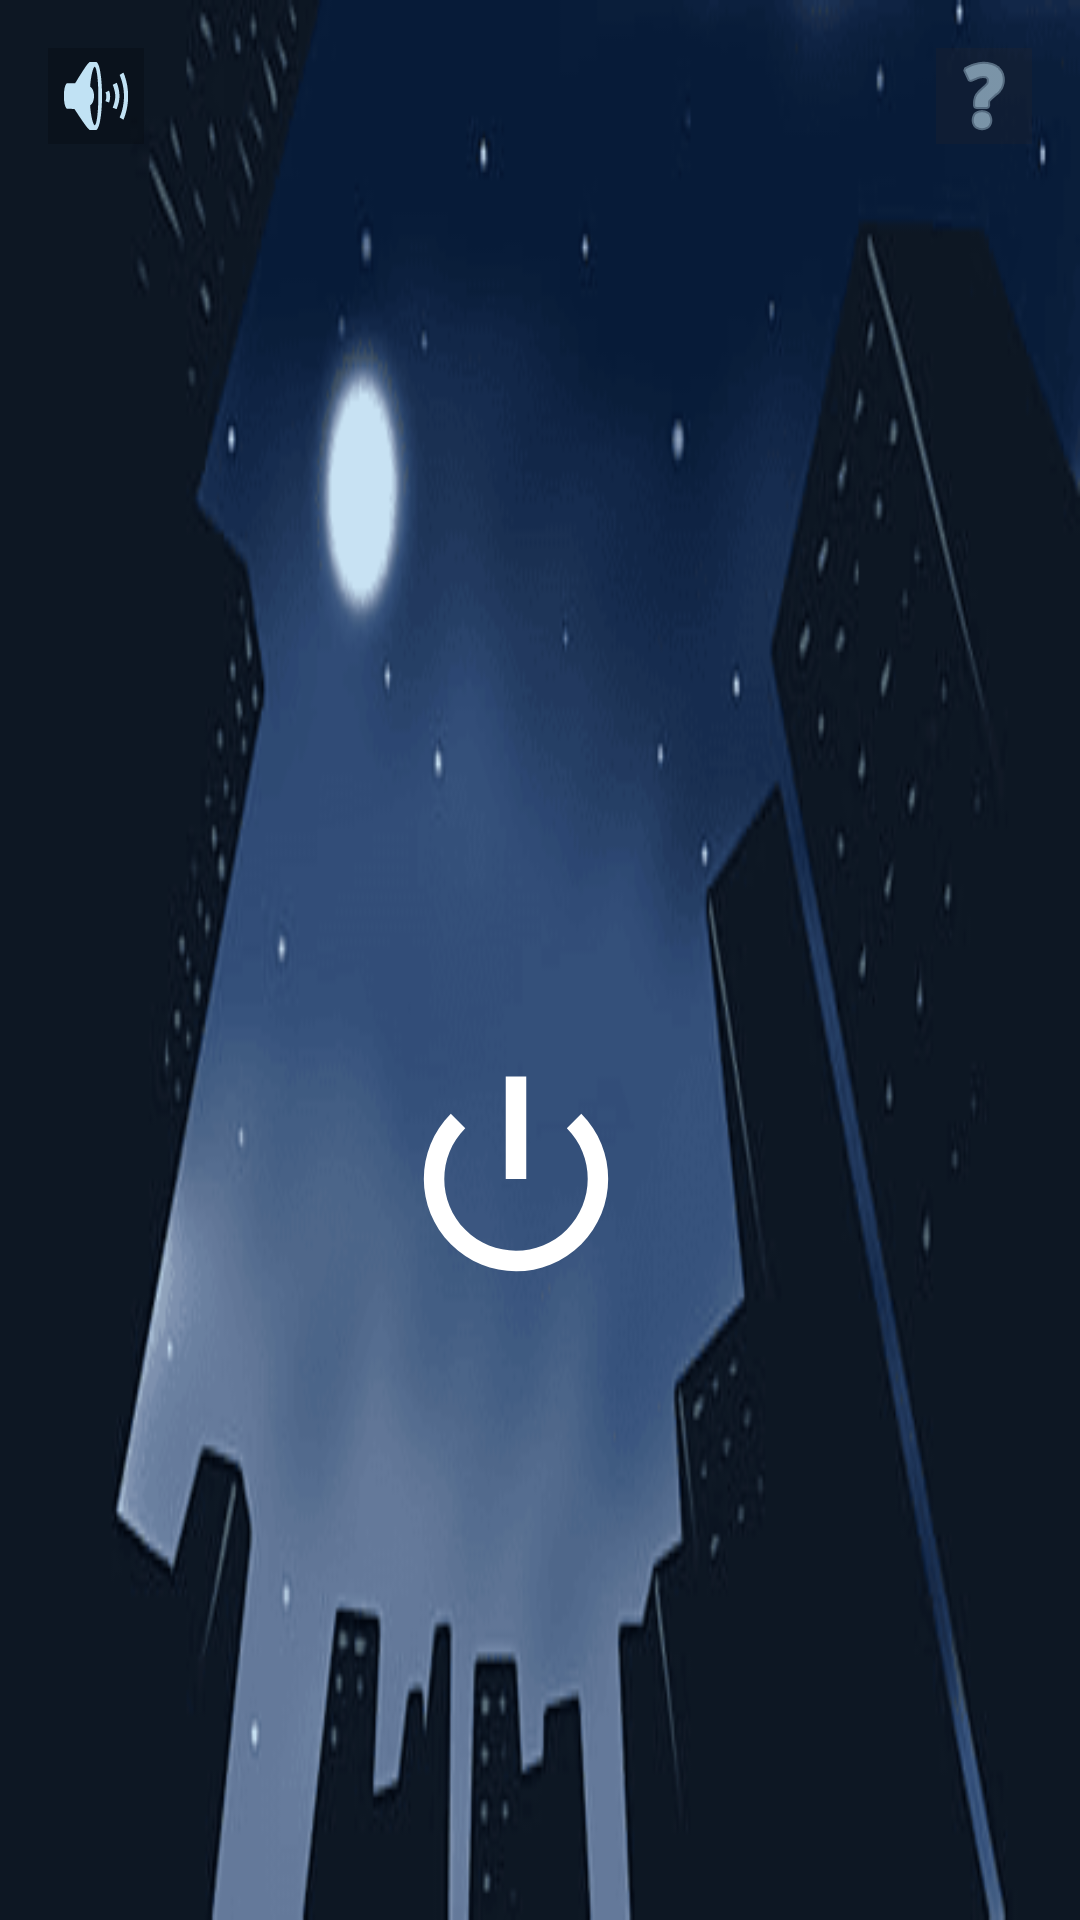

Where to tap for icons on this 1080px x 1920px app screen, as [x,y]:
help: [984,96]
lock power off: [501,1174]
lock silent mode off: [96,96]
